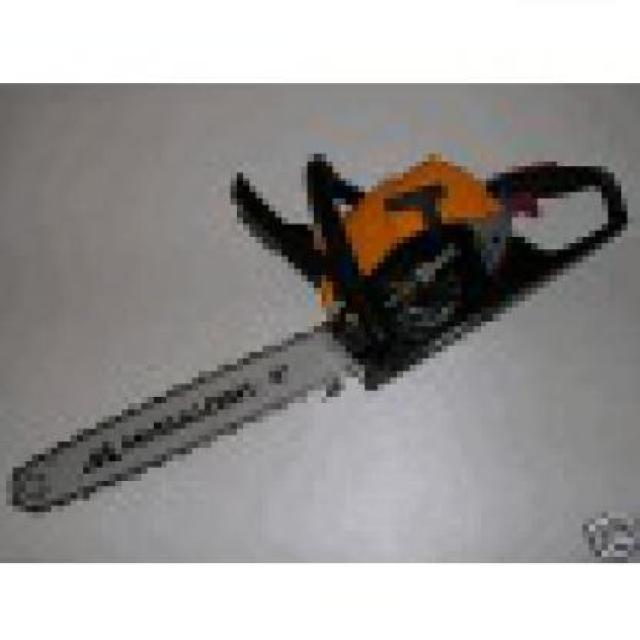Chainsaw: (7, 147, 636, 518)
